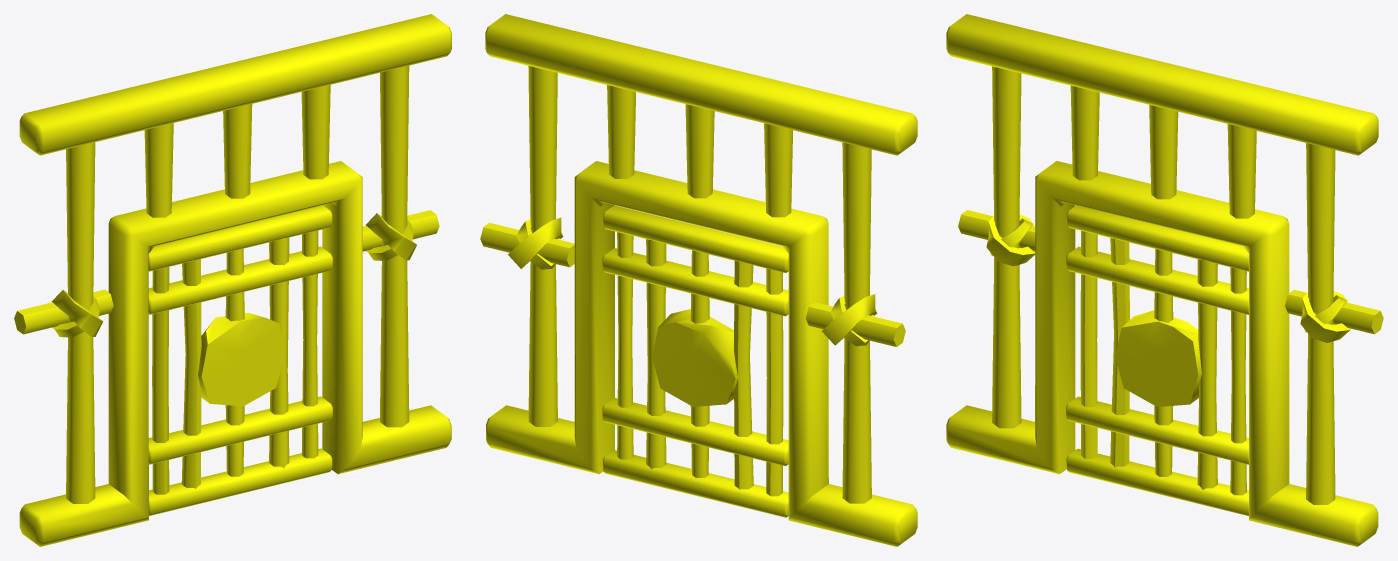
The picture shows the model from 3 angles, left to right: view 1: azimuth 30°, elevation 25°; view 2: azimuth 150°, elevation 25°; view 3: azimuth 330°, elevation 25°; orthographic projection.
Visible parts, largest first — view 1: lattice1, door; view 2: lattice1, door; view 3: lattice1, door.
Boxes of the visible parts, x1,y1,x2,y2 form: lattice1: [14, 14, 451, 546]; door: [148, 205, 332, 515]; lattice1: [480, 14, 917, 546]; door: [602, 205, 788, 517]; lattice1: [946, 14, 1383, 546]; door: [1066, 205, 1248, 515].
Size of the model in its own units: 0.0159 by 0.0155 by 0.00202.
1 material, 1 textured.
